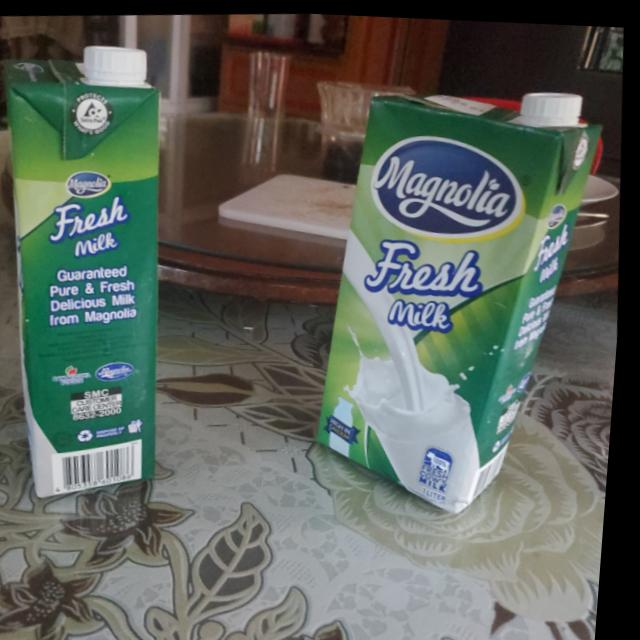milk: (297, 75, 619, 518), (0, 38, 191, 498)
